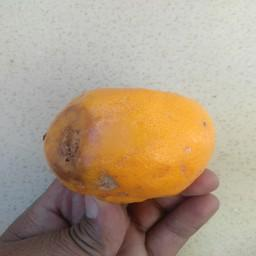Bad_orange: (38, 80, 215, 205)
